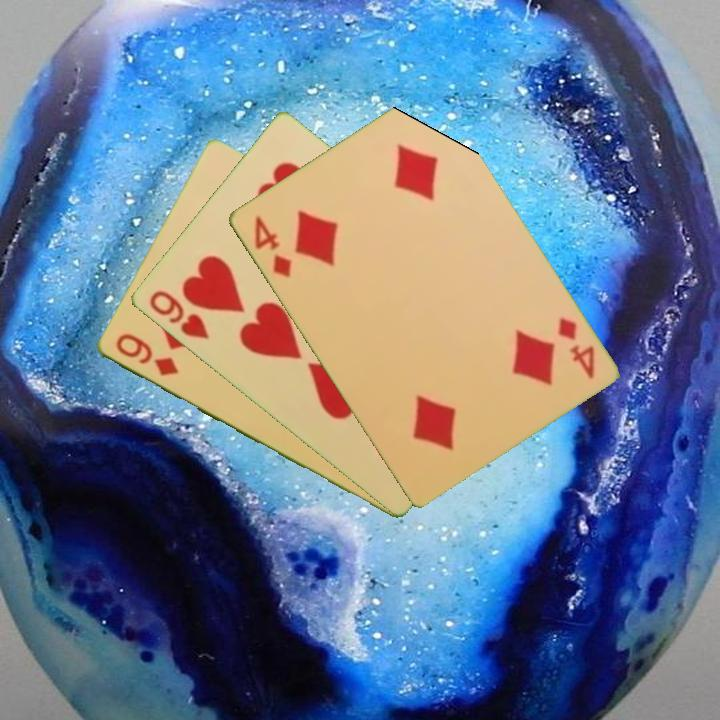4d: (250, 212, 294, 281), (553, 314, 597, 382)
9d: (111, 330, 181, 380)
9h: (145, 287, 212, 342)
